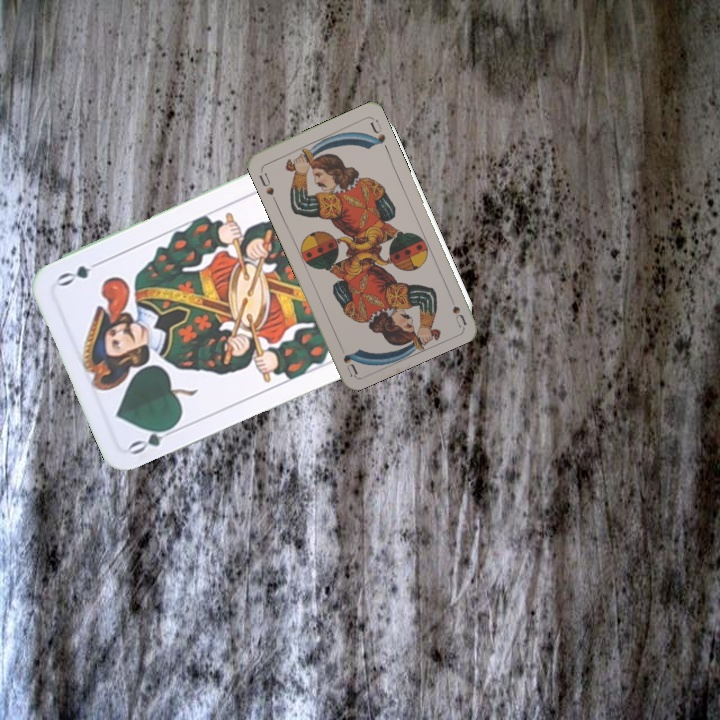GO: (125, 419, 182, 458)
SU: (444, 289, 469, 329), (255, 165, 279, 204)
